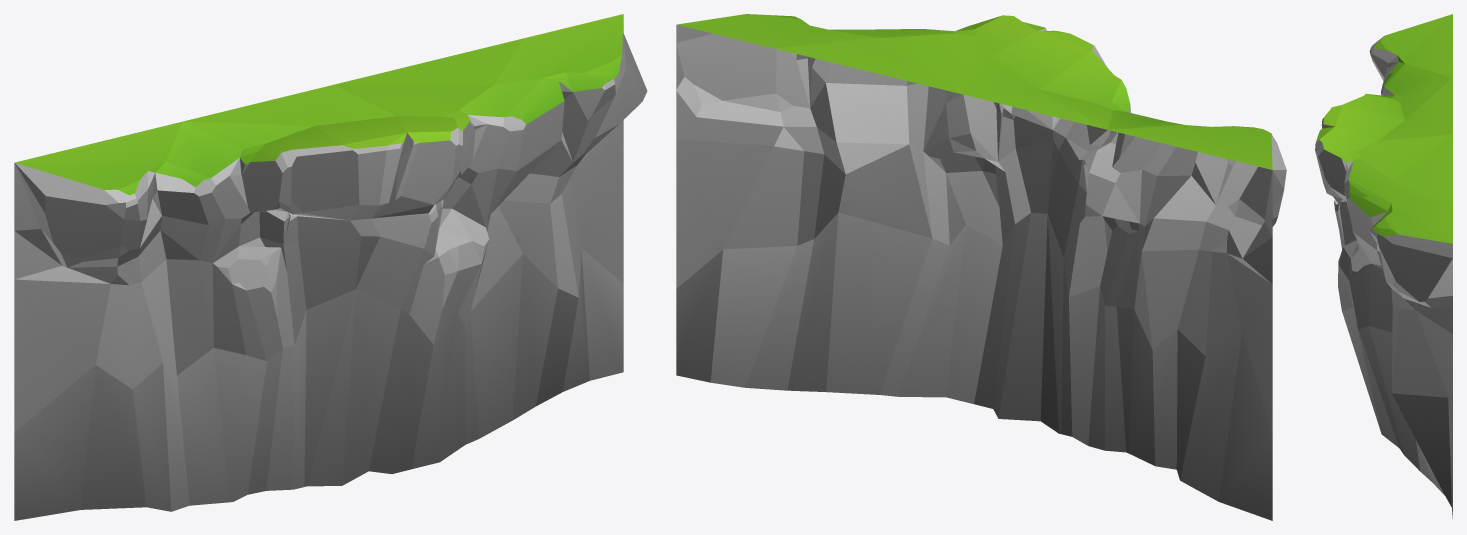
The model's file is Cliff_Plateau_Cap1.fbx.
The picture shows the model from 3 angles, left to right: view 1: azimuth 30°, elevation 25°; view 2: azimuth 150°, elevation 25°; view 3: azimuth 270°, elevation 25°; orthographic projection. The views are drawn at different scales.
Visible parts, largest first — view 1: Cliff_Plateau_Cap1; view 2: Cliff_Plateau_Cap1; view 3: Cliff_Plateau_Cap1.
Part boxes in pixels (x1=…): Cliff_Plateau_Cap1: x1=14, y1=14, x2=647, y2=520; Cliff_Plateau_Cap1: x1=676, y1=14, x2=1286, y2=520; Cliff_Plateau_Cap1: x1=1315, y1=14, x2=1452, y2=518.
Size of the model in its own units: 52.92 by 30.13 by 13.26.
